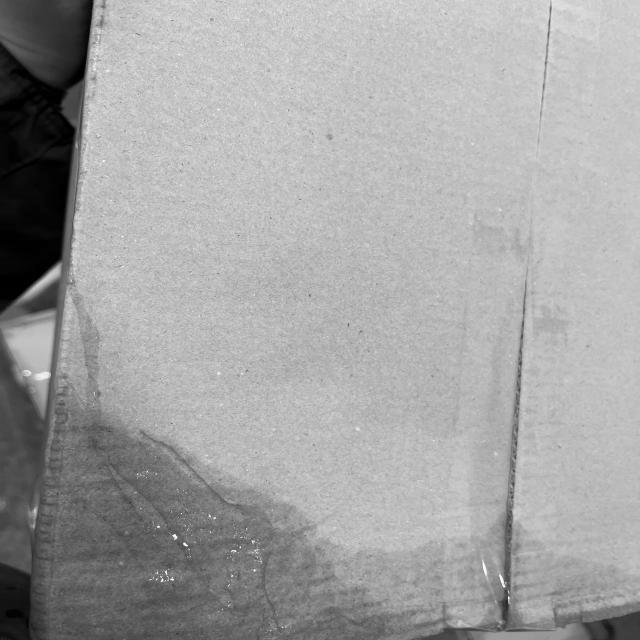hole: (2, 4, 86, 330)
wet: (30, 415, 326, 640)
